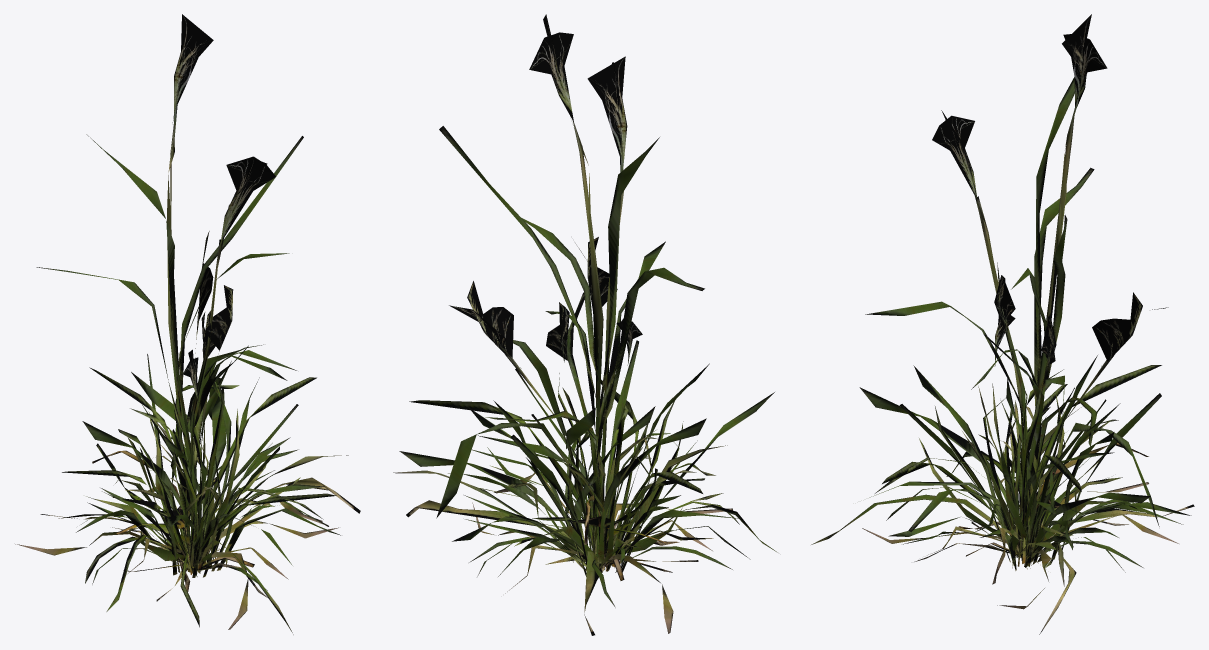
File: grass_clump.glb
The picture shows the model from 3 angles, left to right: view 1: azimuth 30°, elevation 25°; view 2: azimuth 150°, elevation 25°; view 3: azimuth 270°, elevation 25°; orthographic projection. The views are drawn at different scales.
Parts seen in each view (by area): view 1: grass_medium_01_small_a_LOD0; view 2: grass_medium_01_small_a_LOD0; view 3: grass_medium_01_small_a_LOD0.
Boxes of the visible parts, x1,y1,x2,y2 form: grass_medium_01_small_a_LOD0: (15, 14, 360, 634); grass_medium_01_small_a_LOD0: (393, 14, 777, 635); grass_medium_01_small_a_LOD0: (811, 14, 1194, 634).
Bounding box in the file's own units: 0.5231 × 0.8825 × 0.5489.
1 material, 1 textured.
